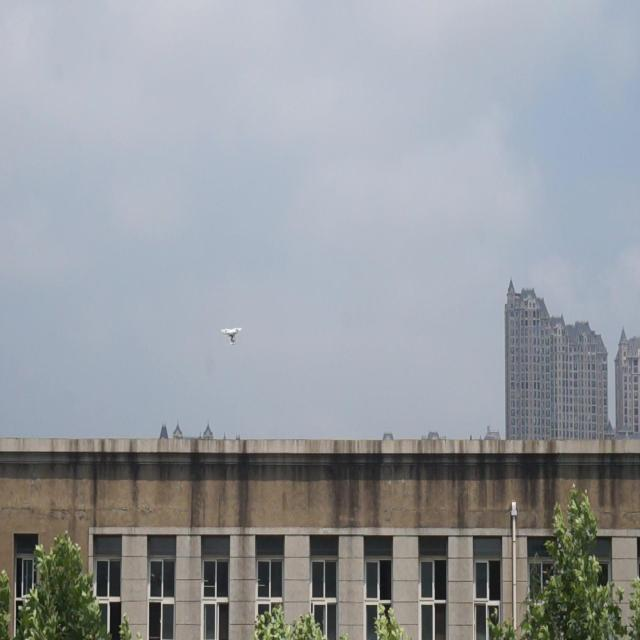drone: (220, 322, 244, 348)
